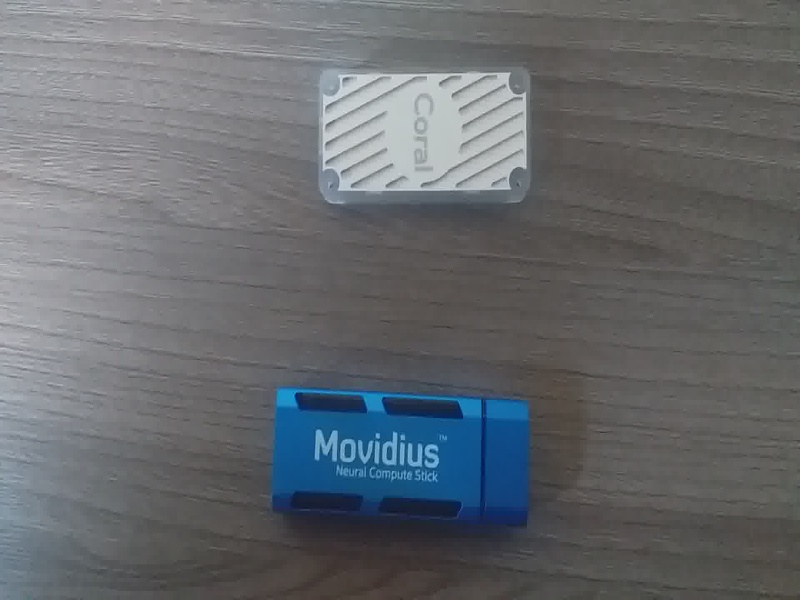coral: (308, 54, 548, 233)
movidius: (263, 379, 544, 539)
